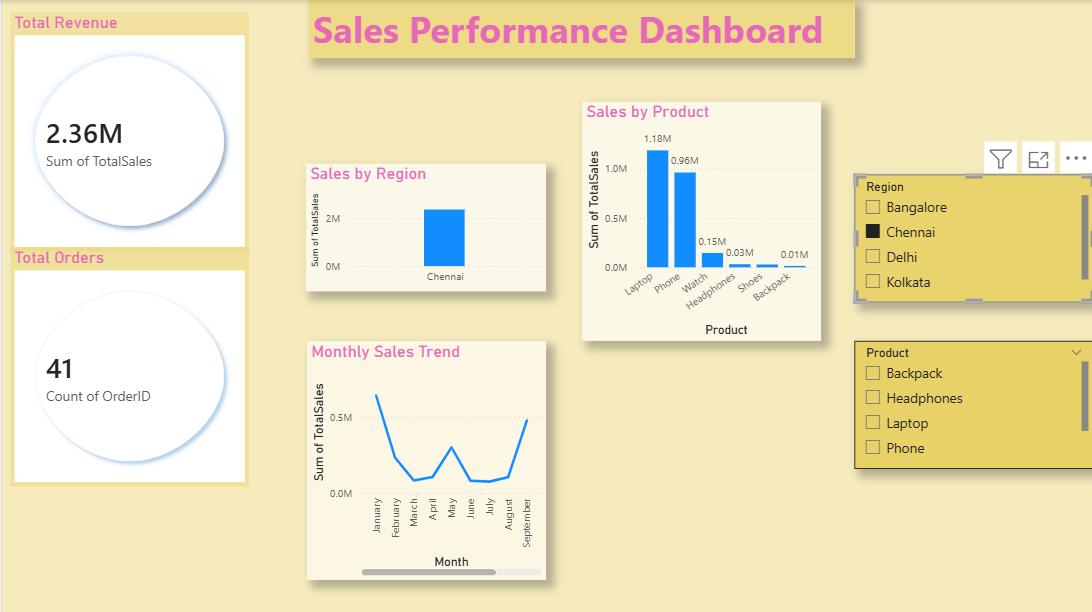

What the dashboard file says about the page in this screenshot:
{"tool":"powerbi","page":{"name":"Page 1","canvas":[1280,720],"ordinal":0},"visuals":[{"type":"cardVisual","title":"Total Revenue ","fields":{"Data":["Sum(SalesData.TotalSales)"]},"box":[10,15,280,280],"z":0},{"type":"cardVisual","title":"Total Orders","fields":{"Data":["CountNonNull(SalesData.OrderID)"]},"box":[10,290,280,280],"z":1000},{"type":"columnChart","title":"Sales by Region","fields":{"Category":["SalesData.Region"],"Y":["Sum(SalesData.TotalSales)"]},"box":[356.7,191.7,281.7,150],"z":2000},{"type":"columnChart","title":" Sales by Product","fields":{"Category":["SalesData.Product"],"Y":["Sum(SalesData.TotalSales)"]},"box":[680,120,280,280],"z":3000},{"type":"lineChart","title":"Monthly Sales Trend","fields":{"Y":["Sum(SalesData.TotalSales)"],"Category":["SalesData.Date.Variation.Date Hierarchy.Month"]},"box":[358.3,400,280,280],"z":4000},{"type":"slicer","fields":{"Values":["SalesData.Region"]},"box":[1000,205,280,150],"z":5000},{"type":"slicer","fields":{"Values":["SalesData.Product"]},"box":[1000,400,280,150],"z":6000},{"type":"textbox","box":[360,0,640,68.3],"z":7000}]}

Visuals, with their boxes in screenshot pixels (x1, y1, x2, y2), scaled from the page's 1280x720 canvas onto the 1092x612 screenshot:
"Total Revenue " cardVisual: (left=9, top=13, right=247, bottom=251)
"Total Orders" cardVisual: (left=9, top=246, right=247, bottom=484)
"Sales by Region" columnChart: (left=304, top=163, right=545, bottom=290)
" Sales by Product" columnChart: (left=580, top=102, right=819, bottom=340)
"Monthly Sales Trend" lineChart: (left=306, top=340, right=545, bottom=578)
slicer - SalesData.Region: (left=853, top=174, right=1091, bottom=302)
slicer - SalesData.Product: (left=853, top=340, right=1091, bottom=468)
textbox: (left=307, top=0, right=853, bottom=58)
